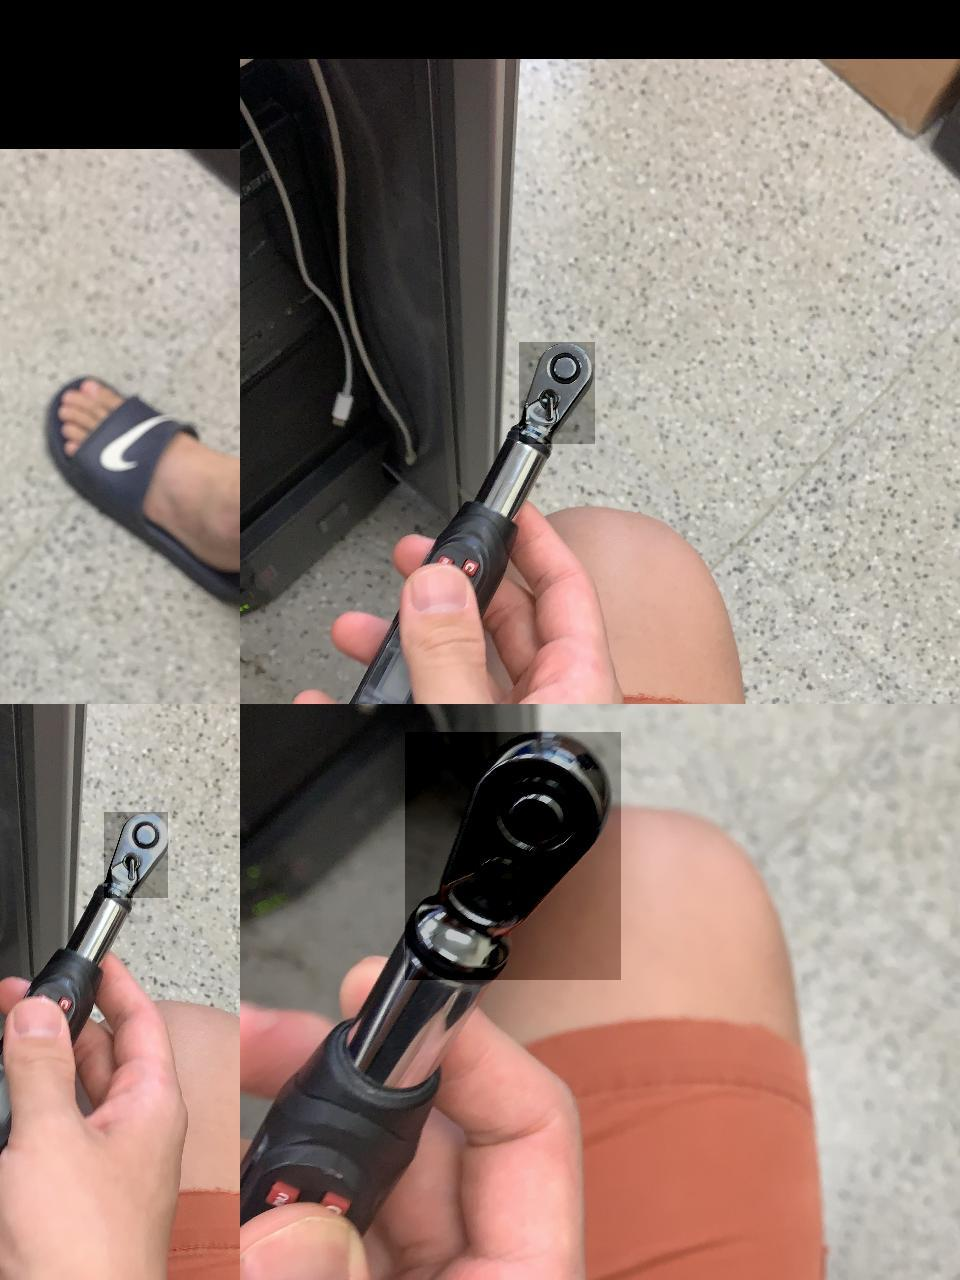Tool: (404, 732, 620, 980), (518, 342, 594, 444), (103, 812, 167, 898)
